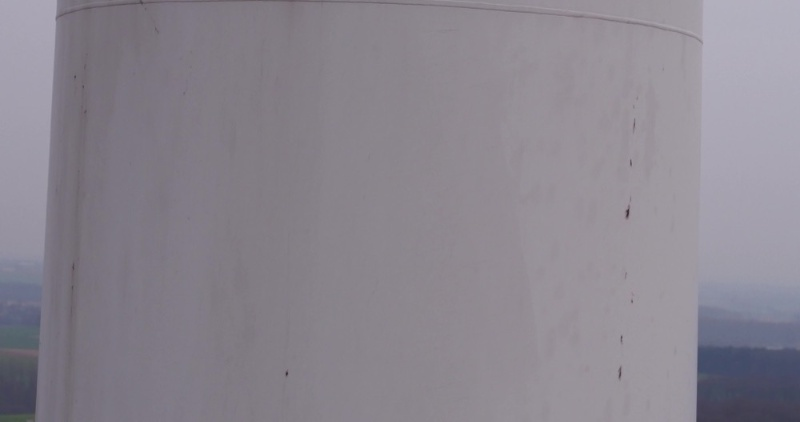weldseam: (51, 1, 714, 52)
